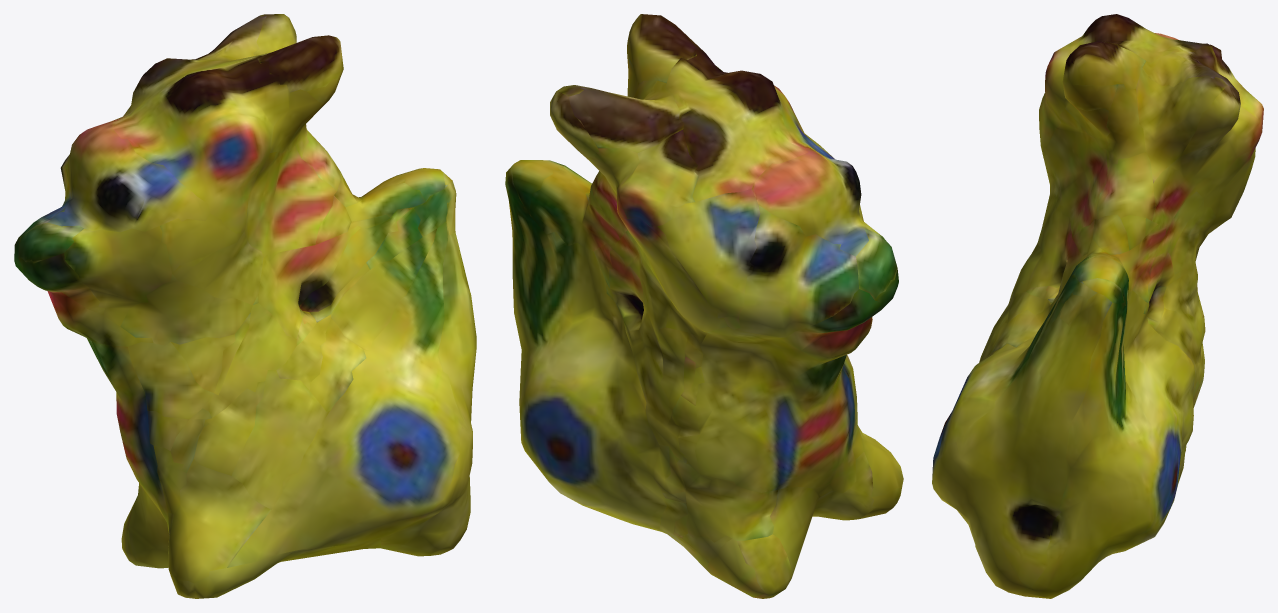
Rendered from hall.glb.
3 views of the same model, side by side, from view 1: azimuth 30°, elevation 25°; view 2: azimuth 150°, elevation 25°; view 3: azimuth 270°, elevation 25° (orthographic).
Bounding box in the file's own units: 0.3298 × 0.4029 × 0.2354.
1 material, 1 textured.
